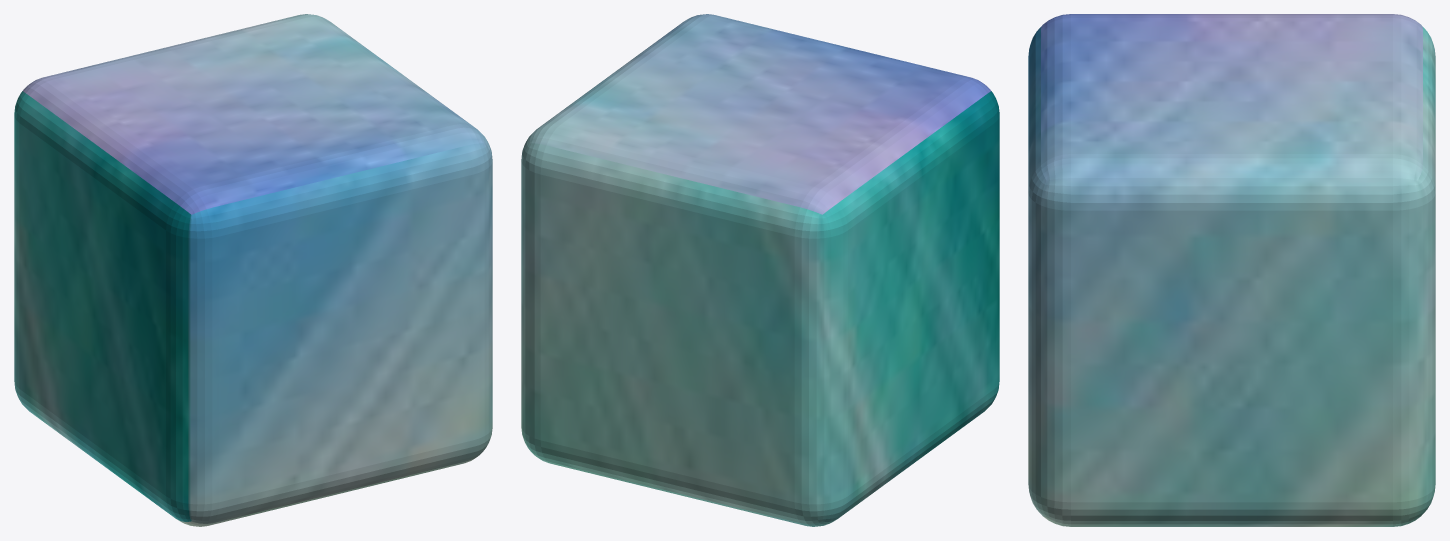
Rendered from week7hsm.glb.
3 renders of one model, left to right at view 1: azimuth 30°, elevation 25°; view 2: azimuth 150°, elevation 25°; view 3: azimuth 270°, elevation 25°, orthographic. The views are drawn at different scales.
Visible parts, largest first — view 1: Cube; view 2: Cube; view 3: Cube.
Part boxes in pixels (bbox=[...]): Cube: bbox=[14, 14, 492, 526]; Cube: bbox=[521, 14, 999, 526]; Cube: bbox=[1028, 14, 1435, 526].
Size of the model in its own units: 2 by 2 by 2.
1 material, 1 textured.
